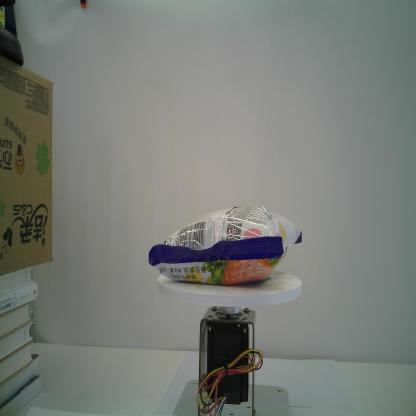Puffed Food: (148, 204, 303, 287)
